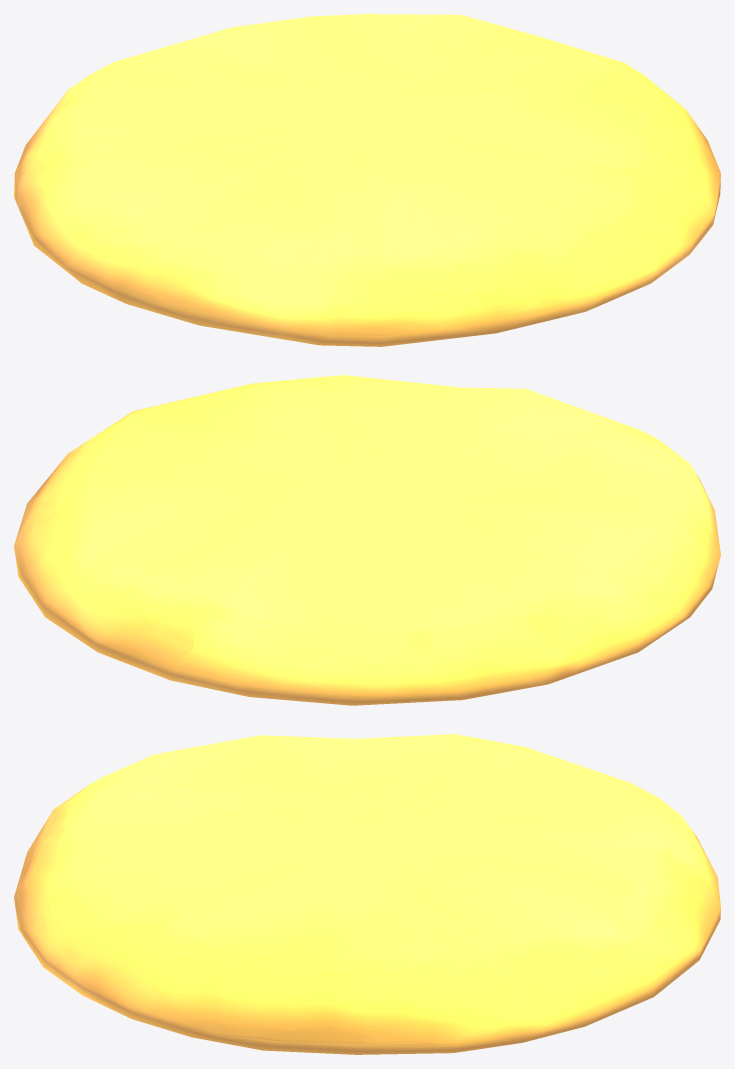
The picture shows the model from 3 angles, top to bottom: view 1: azimuth 30°, elevation 25°; view 2: azimuth 150°, elevation 25°; view 3: azimuth 270°, elevation 25°; orthographic projection.
Visible parts, largest first — view 1: light; view 2: light; view 3: light.
Boxes of the visible parts, x1,y1,x2,y2 form: light: (14,14,720,346); light: (14,375,720,705); light: (14,734,720,1054).
Size of the model in its own units: 1.25 by 0.1602 by 1.25.
1 material, 1 textured.
